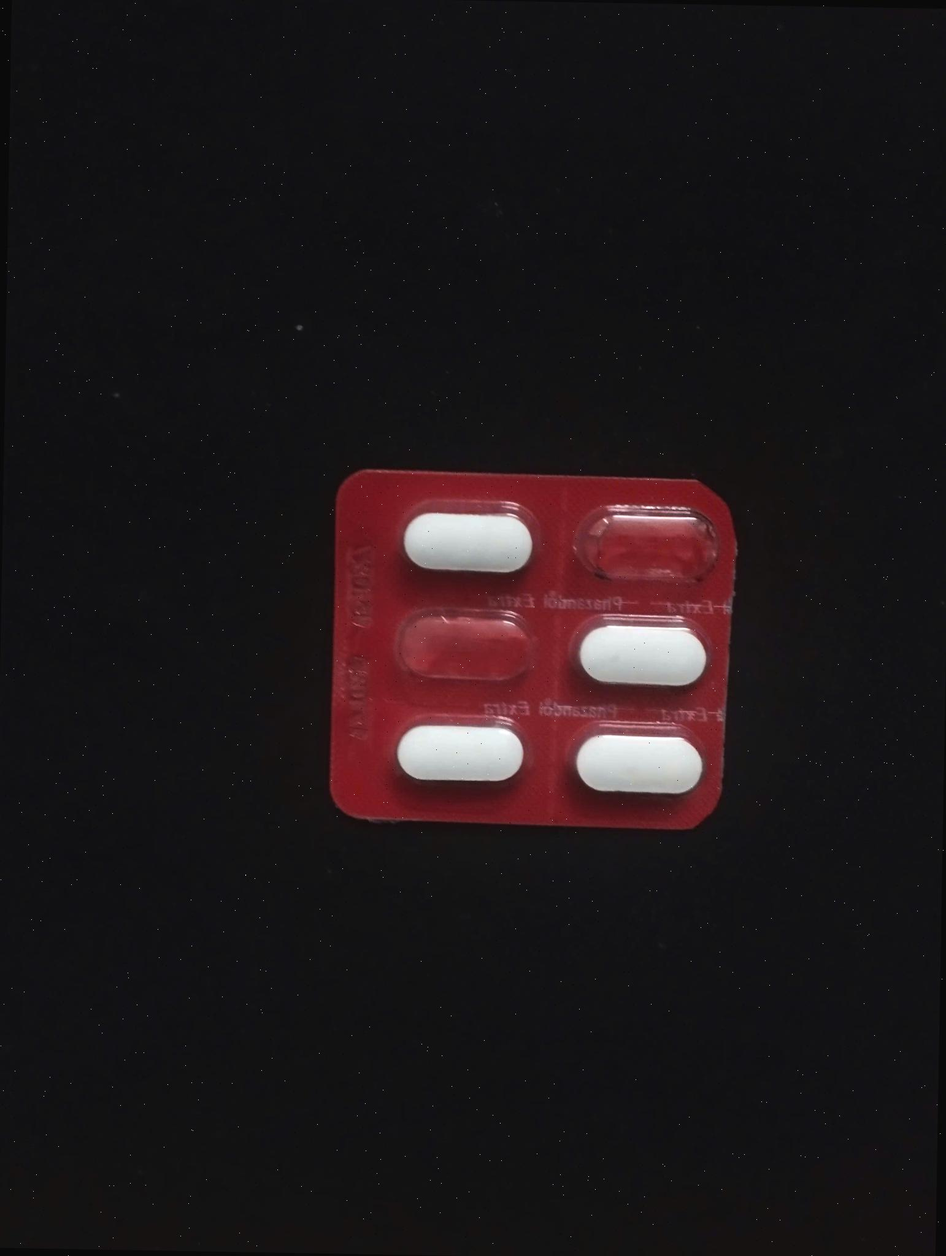Empty: (388, 610, 544, 684), (572, 508, 713, 585)
Full: (372, 713, 528, 792), (578, 621, 708, 695), (396, 512, 536, 580), (566, 733, 704, 798)
